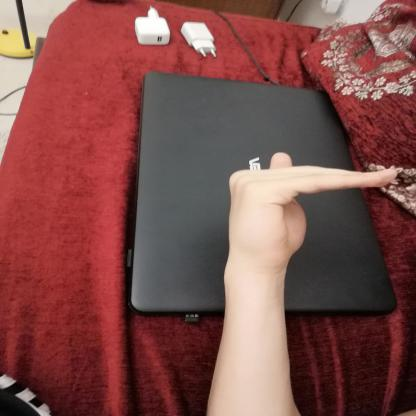KHAA: (211, 144, 409, 275)
